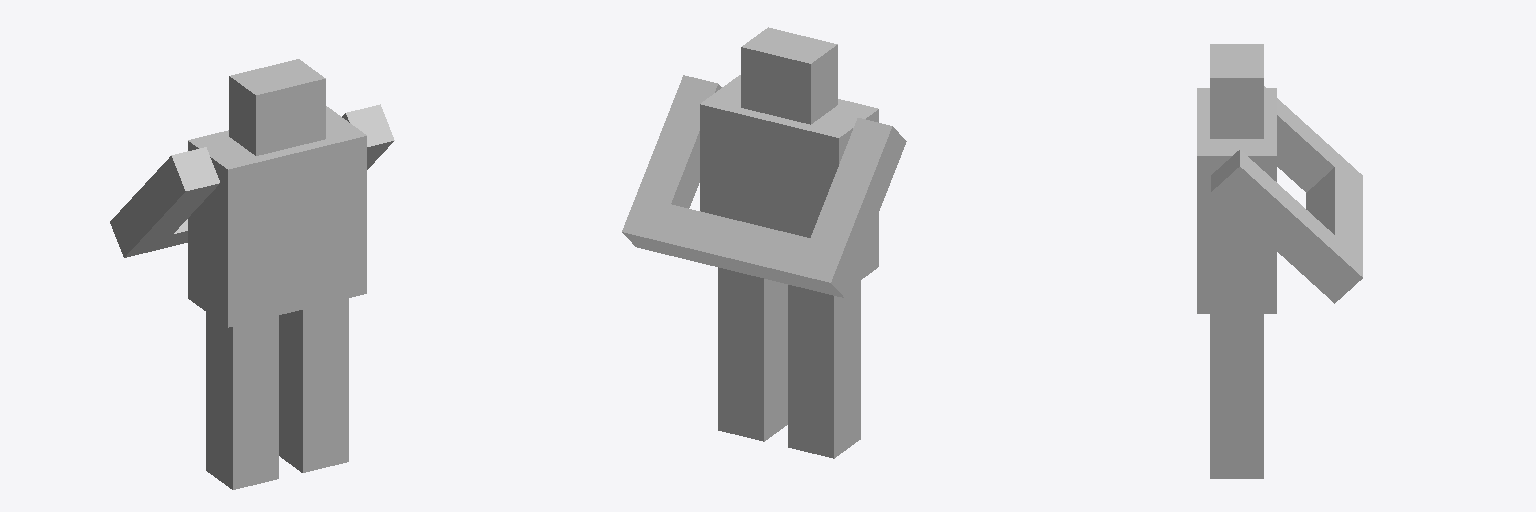
The model's file is gucciklam.obj.
The picture shows the model from 3 angles: view 1: azimuth 30°, elevation 25°; view 2: azimuth 150°, elevation 25°; view 3: azimuth 270°, elevation 25°; orthographic projection.
Visible parts, largest first — view 1: cube; view 2: cube; view 3: cube.
Part boxes in pixels (bbox=[...]): cube: bbox=[110, 59, 394, 489]; cube: bbox=[622, 27, 906, 458]; cube: bbox=[1197, 44, 1362, 478].
Bounding box in the file's own units: 1.12 × 2 × 0.7759.